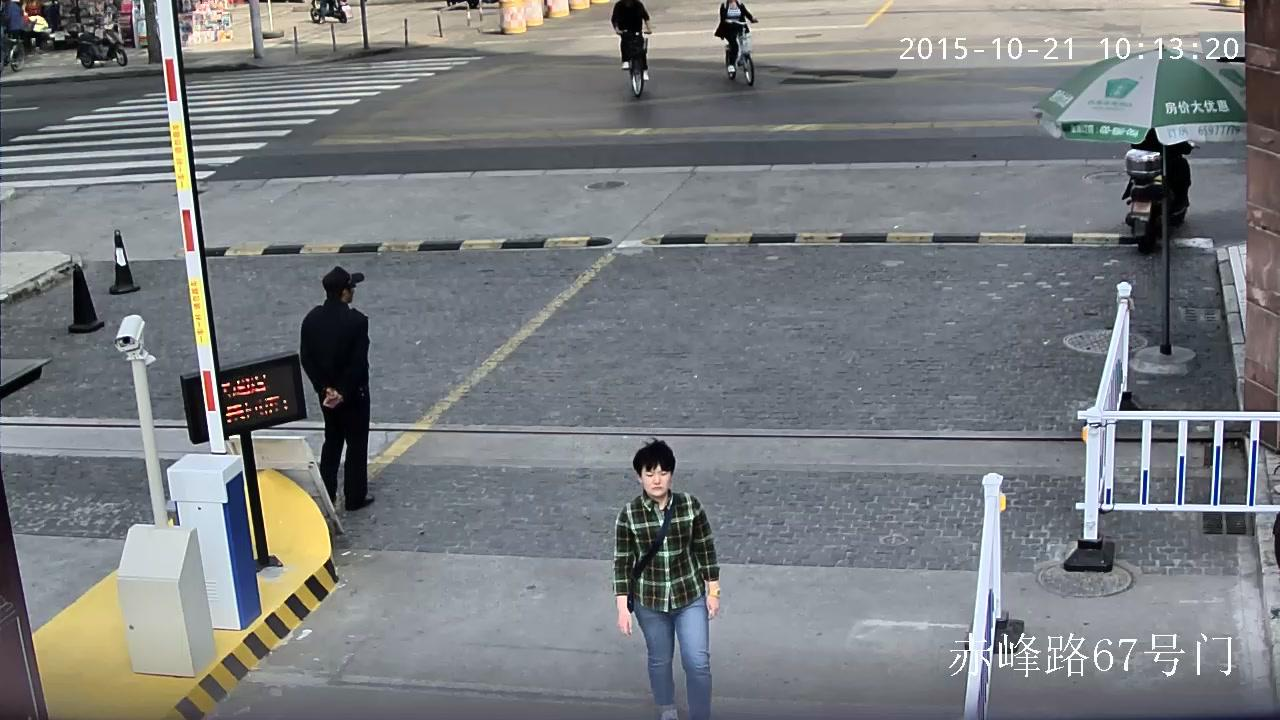person: (613, 437, 721, 720), (299, 265, 376, 512), (1122, 126, 1200, 255), (1122, 127, 1191, 218), (611, 0, 652, 97), (713, 0, 758, 86), (713, 0, 757, 73), (611, 0, 651, 80)
